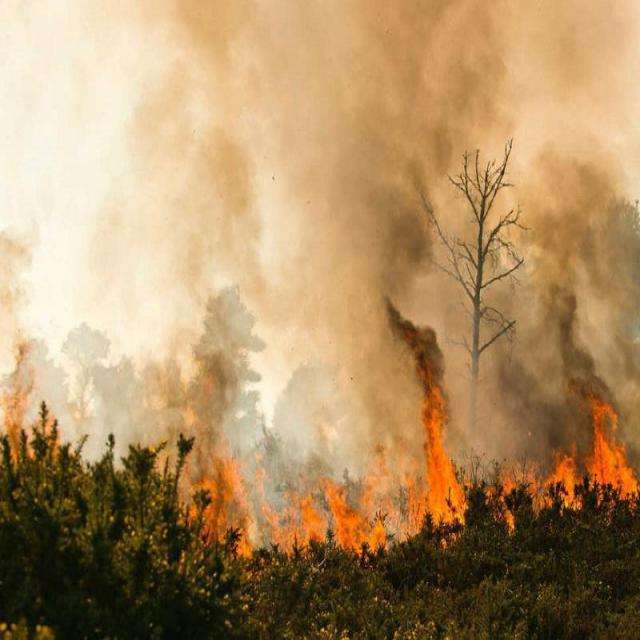Fire: (175, 414, 628, 568)
Smoke: (148, 5, 634, 396)
